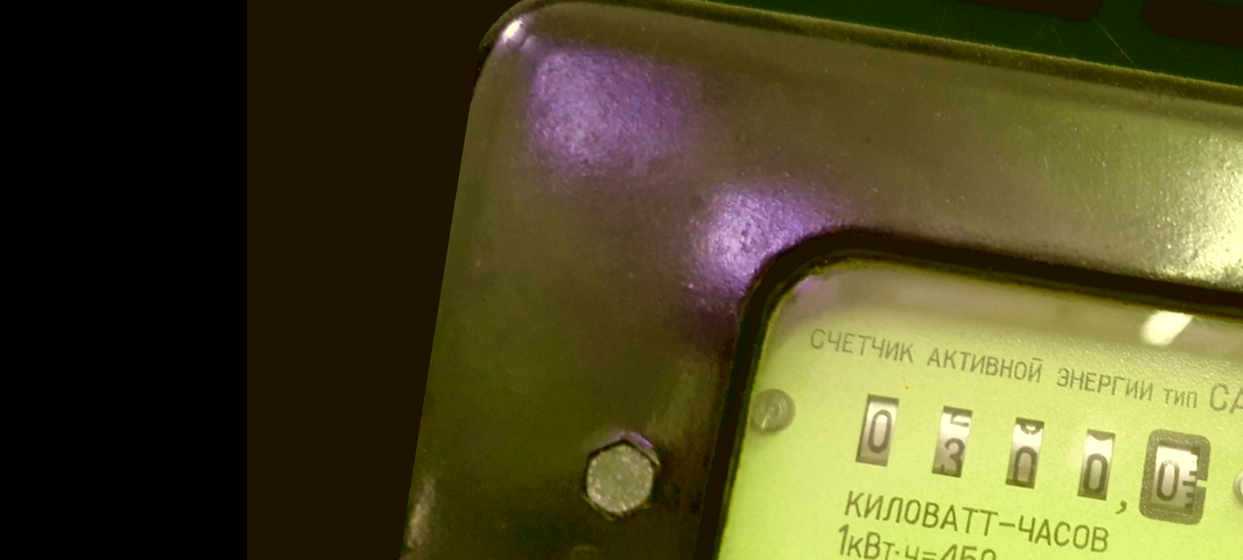0: (863, 402, 897, 457), (1151, 453, 1185, 505), (1077, 448, 1112, 498), (1006, 439, 1040, 490)
3: (935, 431, 969, 478)
screen: (832, 372, 1224, 535)
